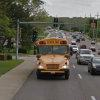Bus: (31, 35, 73, 81)
